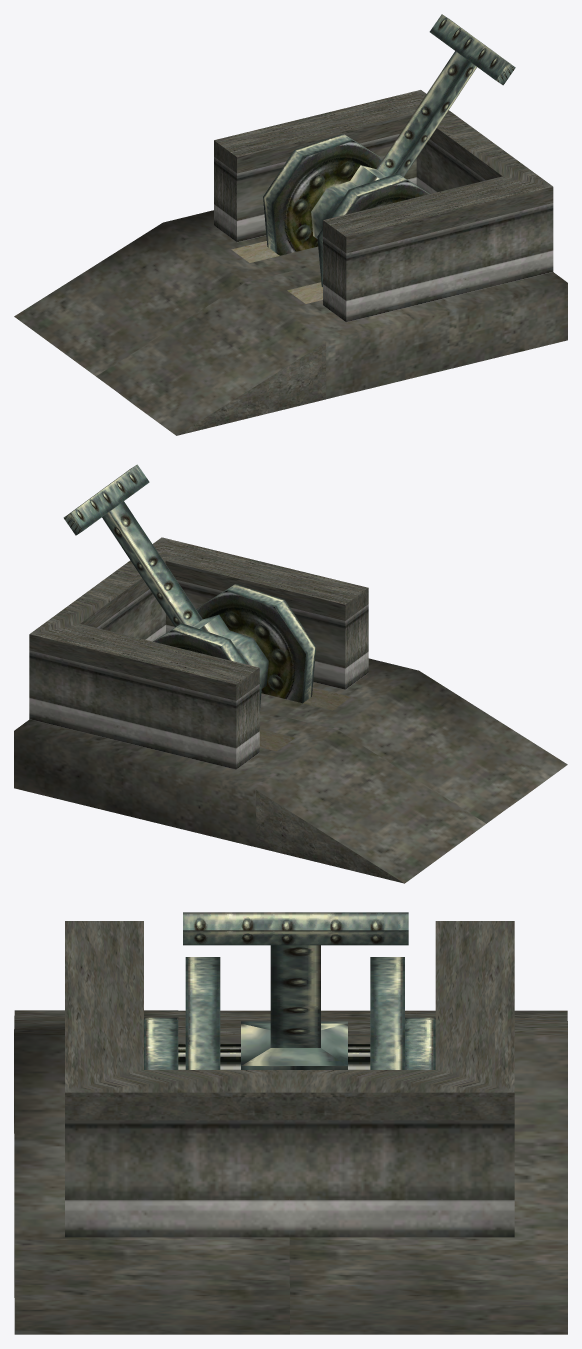
Rendered from LONE_MOUNTAIN_PULL_SWITCH.fbx.
3 views of the same model, one above another, from view 1: azimuth 30°, elevation 25°; view 2: azimuth 150°, elevation 25°; view 3: azimuth 270°, elevation 25° (orthographic). The views are drawn at different scales.
Visible parts, largest first — view 1: LONE_MOUNTAIN_PULL_SWITCH; view 2: LONE_MOUNTAIN_PULL_SWITCH; view 3: LONE_MOUNTAIN_PULL_SWITCH.
Boxes of the visible parts, left/top/right/bottom form: LONE_MOUNTAIN_PULL_SWITCH: left=14, top=14, right=567, bottom=435; LONE_MOUNTAIN_PULL_SWITCH: left=14, top=464, right=567, bottom=883; LONE_MOUNTAIN_PULL_SWITCH: left=14, top=912, right=567, bottom=1334.
Size of the model in its own units: 21689 by 12896 by 15643.
8 materials, 8 textured.
